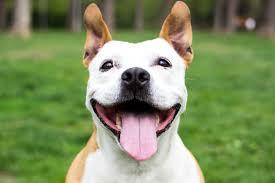Dog: (80, 0, 201, 162)
